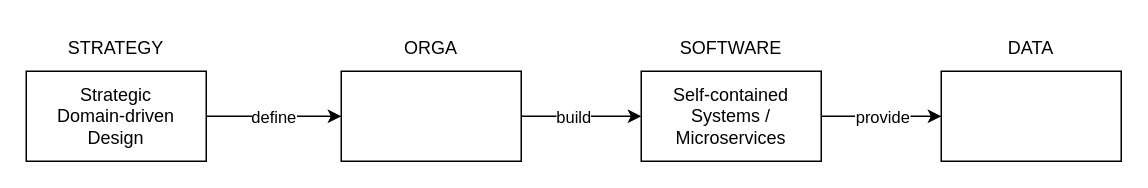
The diagram is 1148 pixels wide and 188 high, and some of its shapes have lost their labels. The shapes that lost their labels are listed below. From the top down, each one's box as (x1, y1, x2, y2) in pixels, then its label:
(340, 70, 521, 161): Autonomous Domain Teams
(940, 70, 1121, 161): Data Mesh
